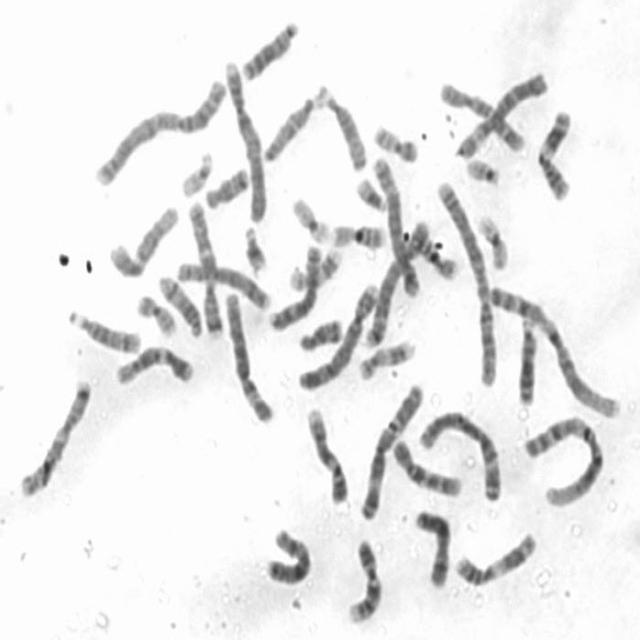A1: (485, 279, 624, 420), (520, 408, 606, 509)
A2: (91, 73, 229, 188), (432, 176, 499, 390)
A3: (356, 379, 425, 522), (414, 406, 502, 503)
B4: (296, 276, 382, 393), (221, 54, 270, 225)
B5: (359, 212, 434, 352), (368, 151, 420, 300)
C10: (436, 79, 526, 154), (386, 432, 466, 499)
C11: (451, 526, 539, 588), (534, 104, 576, 202)
C12: (106, 201, 180, 280), (111, 341, 194, 387)
C6: (452, 67, 550, 161), (220, 286, 277, 426)
C7: (15, 372, 94, 500), (184, 194, 226, 339)
C8: (174, 258, 274, 313), (265, 241, 324, 334)
C9: (304, 403, 349, 506), (344, 535, 384, 626)
D13: (236, 14, 302, 82), (514, 312, 539, 407)
D14: (64, 305, 144, 355), (155, 269, 204, 339)
D15: (258, 86, 324, 165), (316, 80, 370, 174)
E16: (407, 218, 461, 280), (328, 215, 390, 251)
E17: (284, 241, 344, 293), (355, 333, 418, 381)
E18: (202, 163, 250, 210), (294, 311, 345, 353)
F19: (288, 190, 333, 246), (474, 210, 512, 270)
F20: (368, 118, 421, 164), (131, 288, 179, 338)
G21: (240, 220, 269, 274), (352, 173, 390, 213)
G22: (178, 146, 215, 199), (461, 153, 502, 188)
X: (412, 505, 454, 589), (262, 522, 315, 587)
